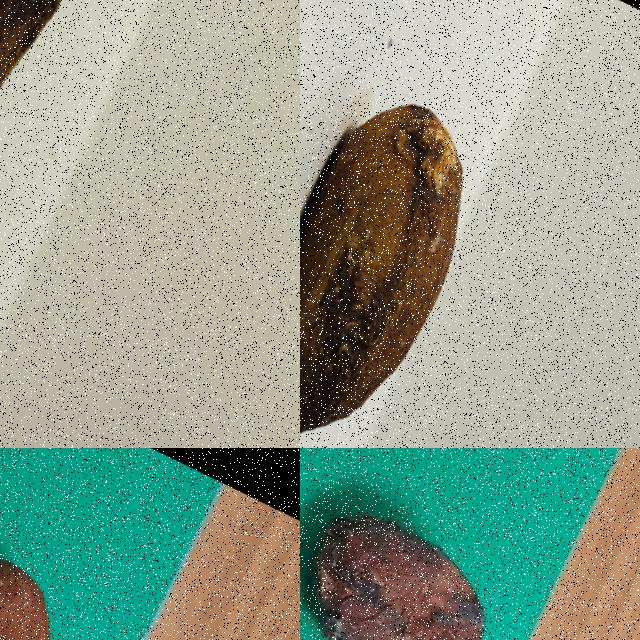Fine_cocoabeans: (300, 38, 528, 447), (300, 448, 559, 639), (0, 448, 143, 639)
Flat_cocoabeans: (0, 0, 188, 353)
